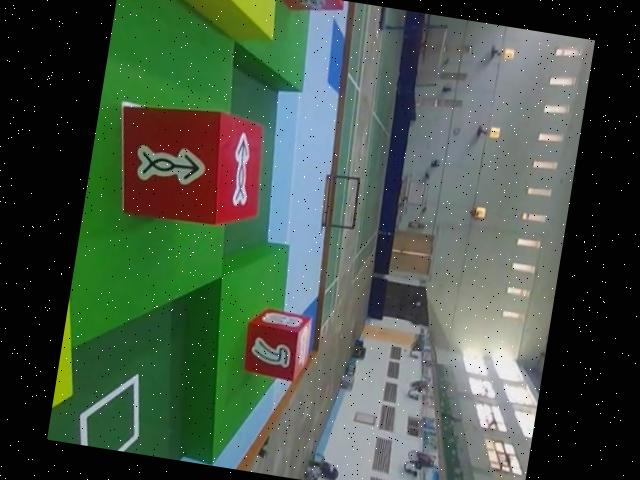R2 Fake: (235, 305, 317, 387)
R2 Real: (102, 94, 277, 241)
